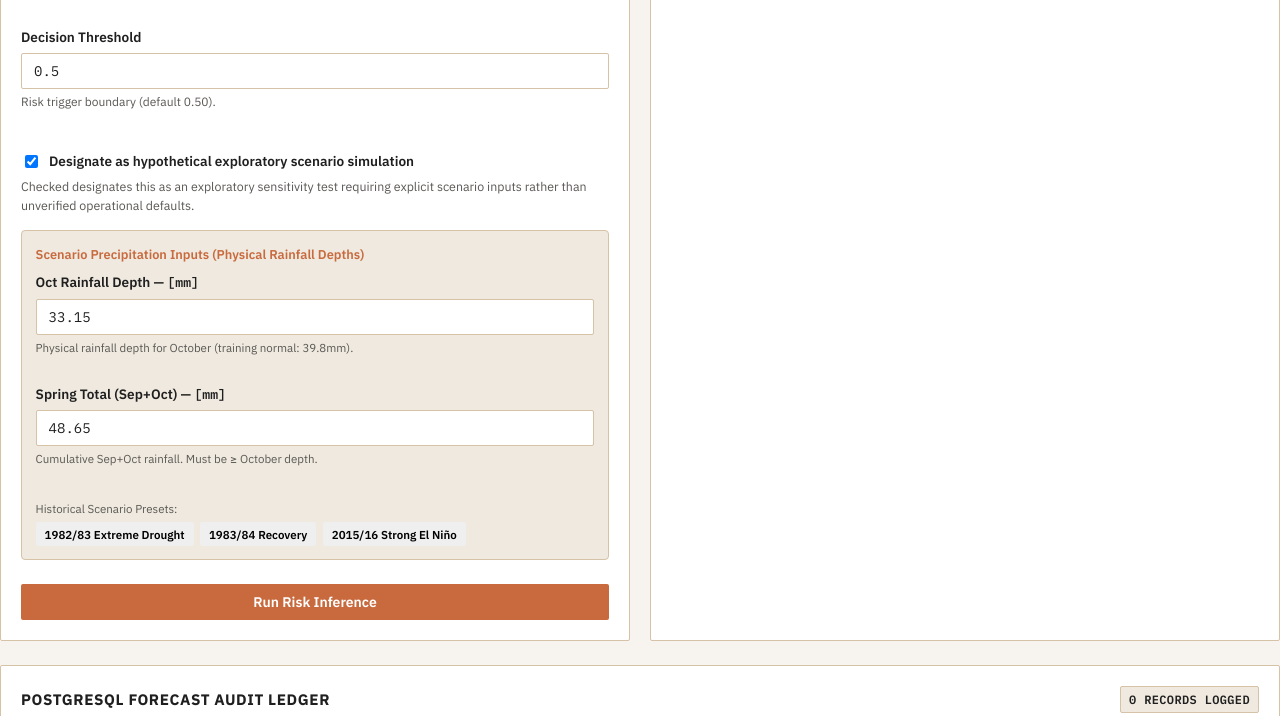
Test case: ForecastsView Scientific Integrity & Factor Audit › blocks submission and displays validation error when spring rainfall is less than October rainfall
(page scrolled)
Replace the text in the number field labelled "Oct Rainfall Depth — [mm]" with "60.00" at x=315, y=317, box [36, 299, 594, 335]
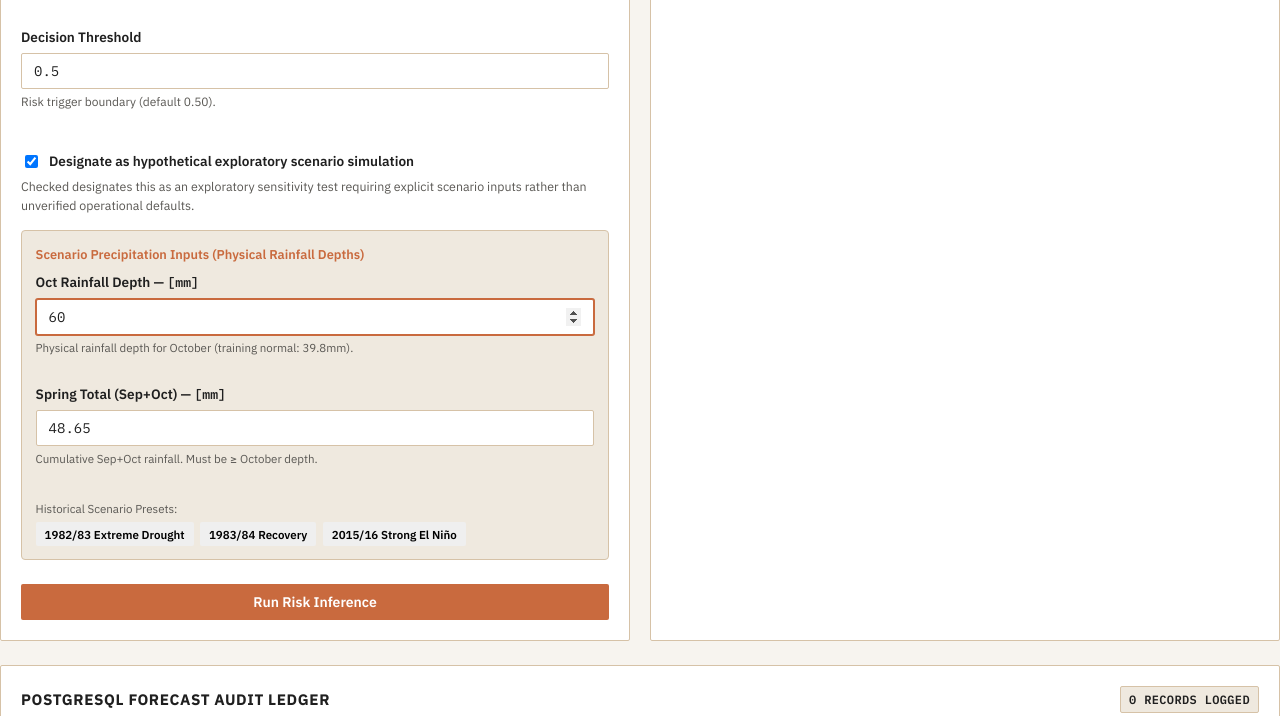
Replace the text in the number field labelled "Spring Total (Sep+Oct) — [mm]" with "20.00" at x=315, y=428, box [36, 410, 594, 446]
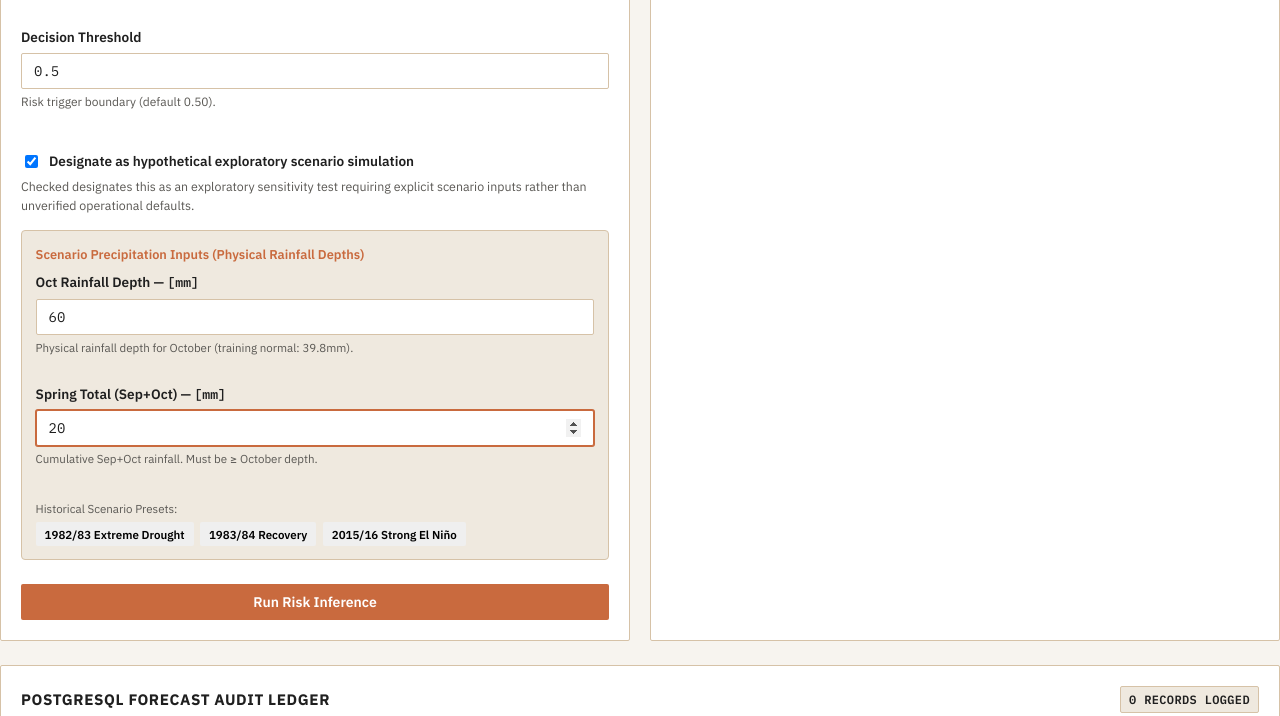
Click the button "Run Risk Inference" at x=315, y=602, box [21, 584, 609, 620]
(page scrolled)
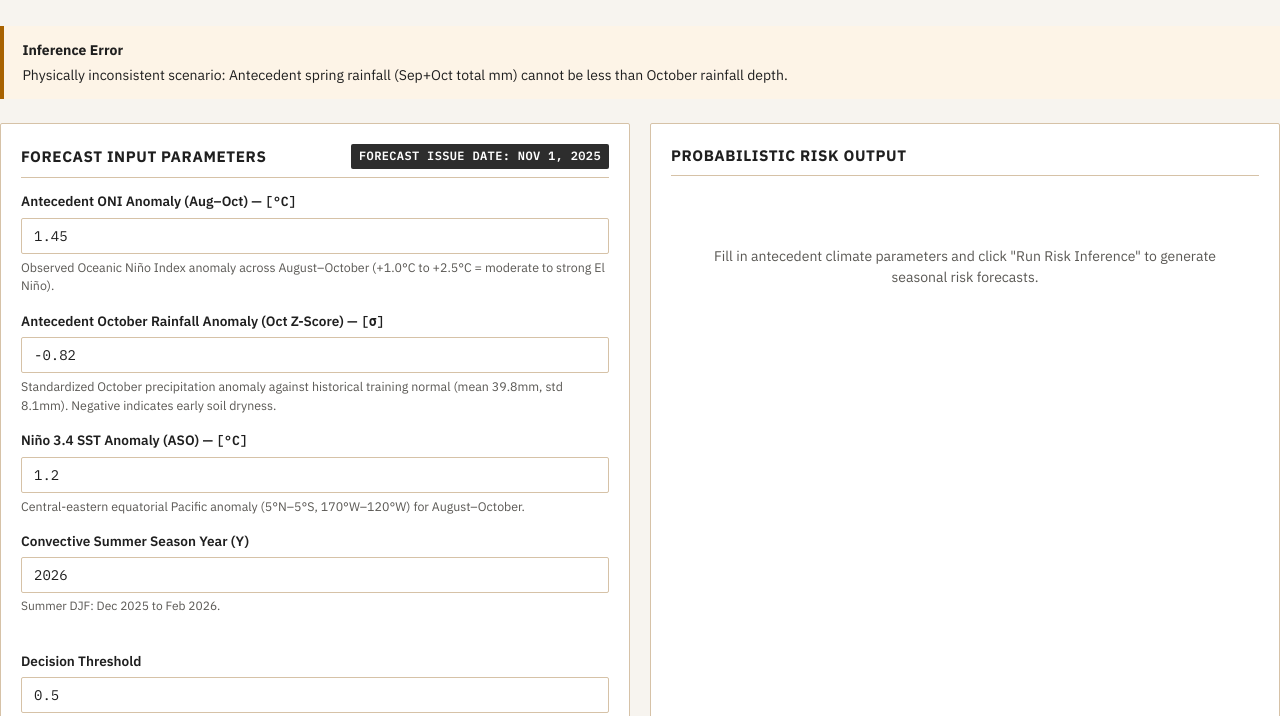
Now the text "Physically inconsistent scenario: Antecedent spring rainfall" is shown, box [22, 66, 788, 84]
